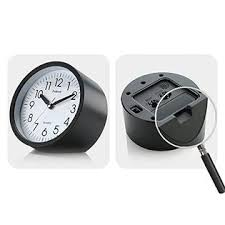alarm_clock: (10, 58, 108, 153)
